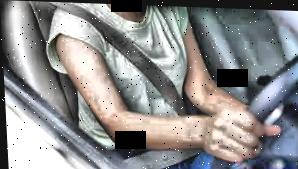seatbelt: (46, 3, 211, 169)
